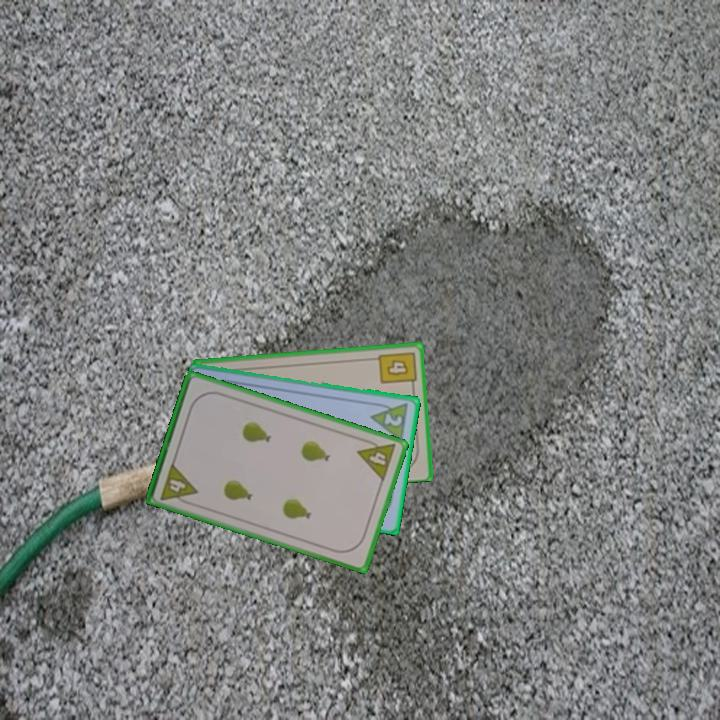2p: (368, 399, 412, 444)
4b: (375, 348, 419, 391)
4p: (354, 434, 399, 484), (157, 459, 200, 508)
